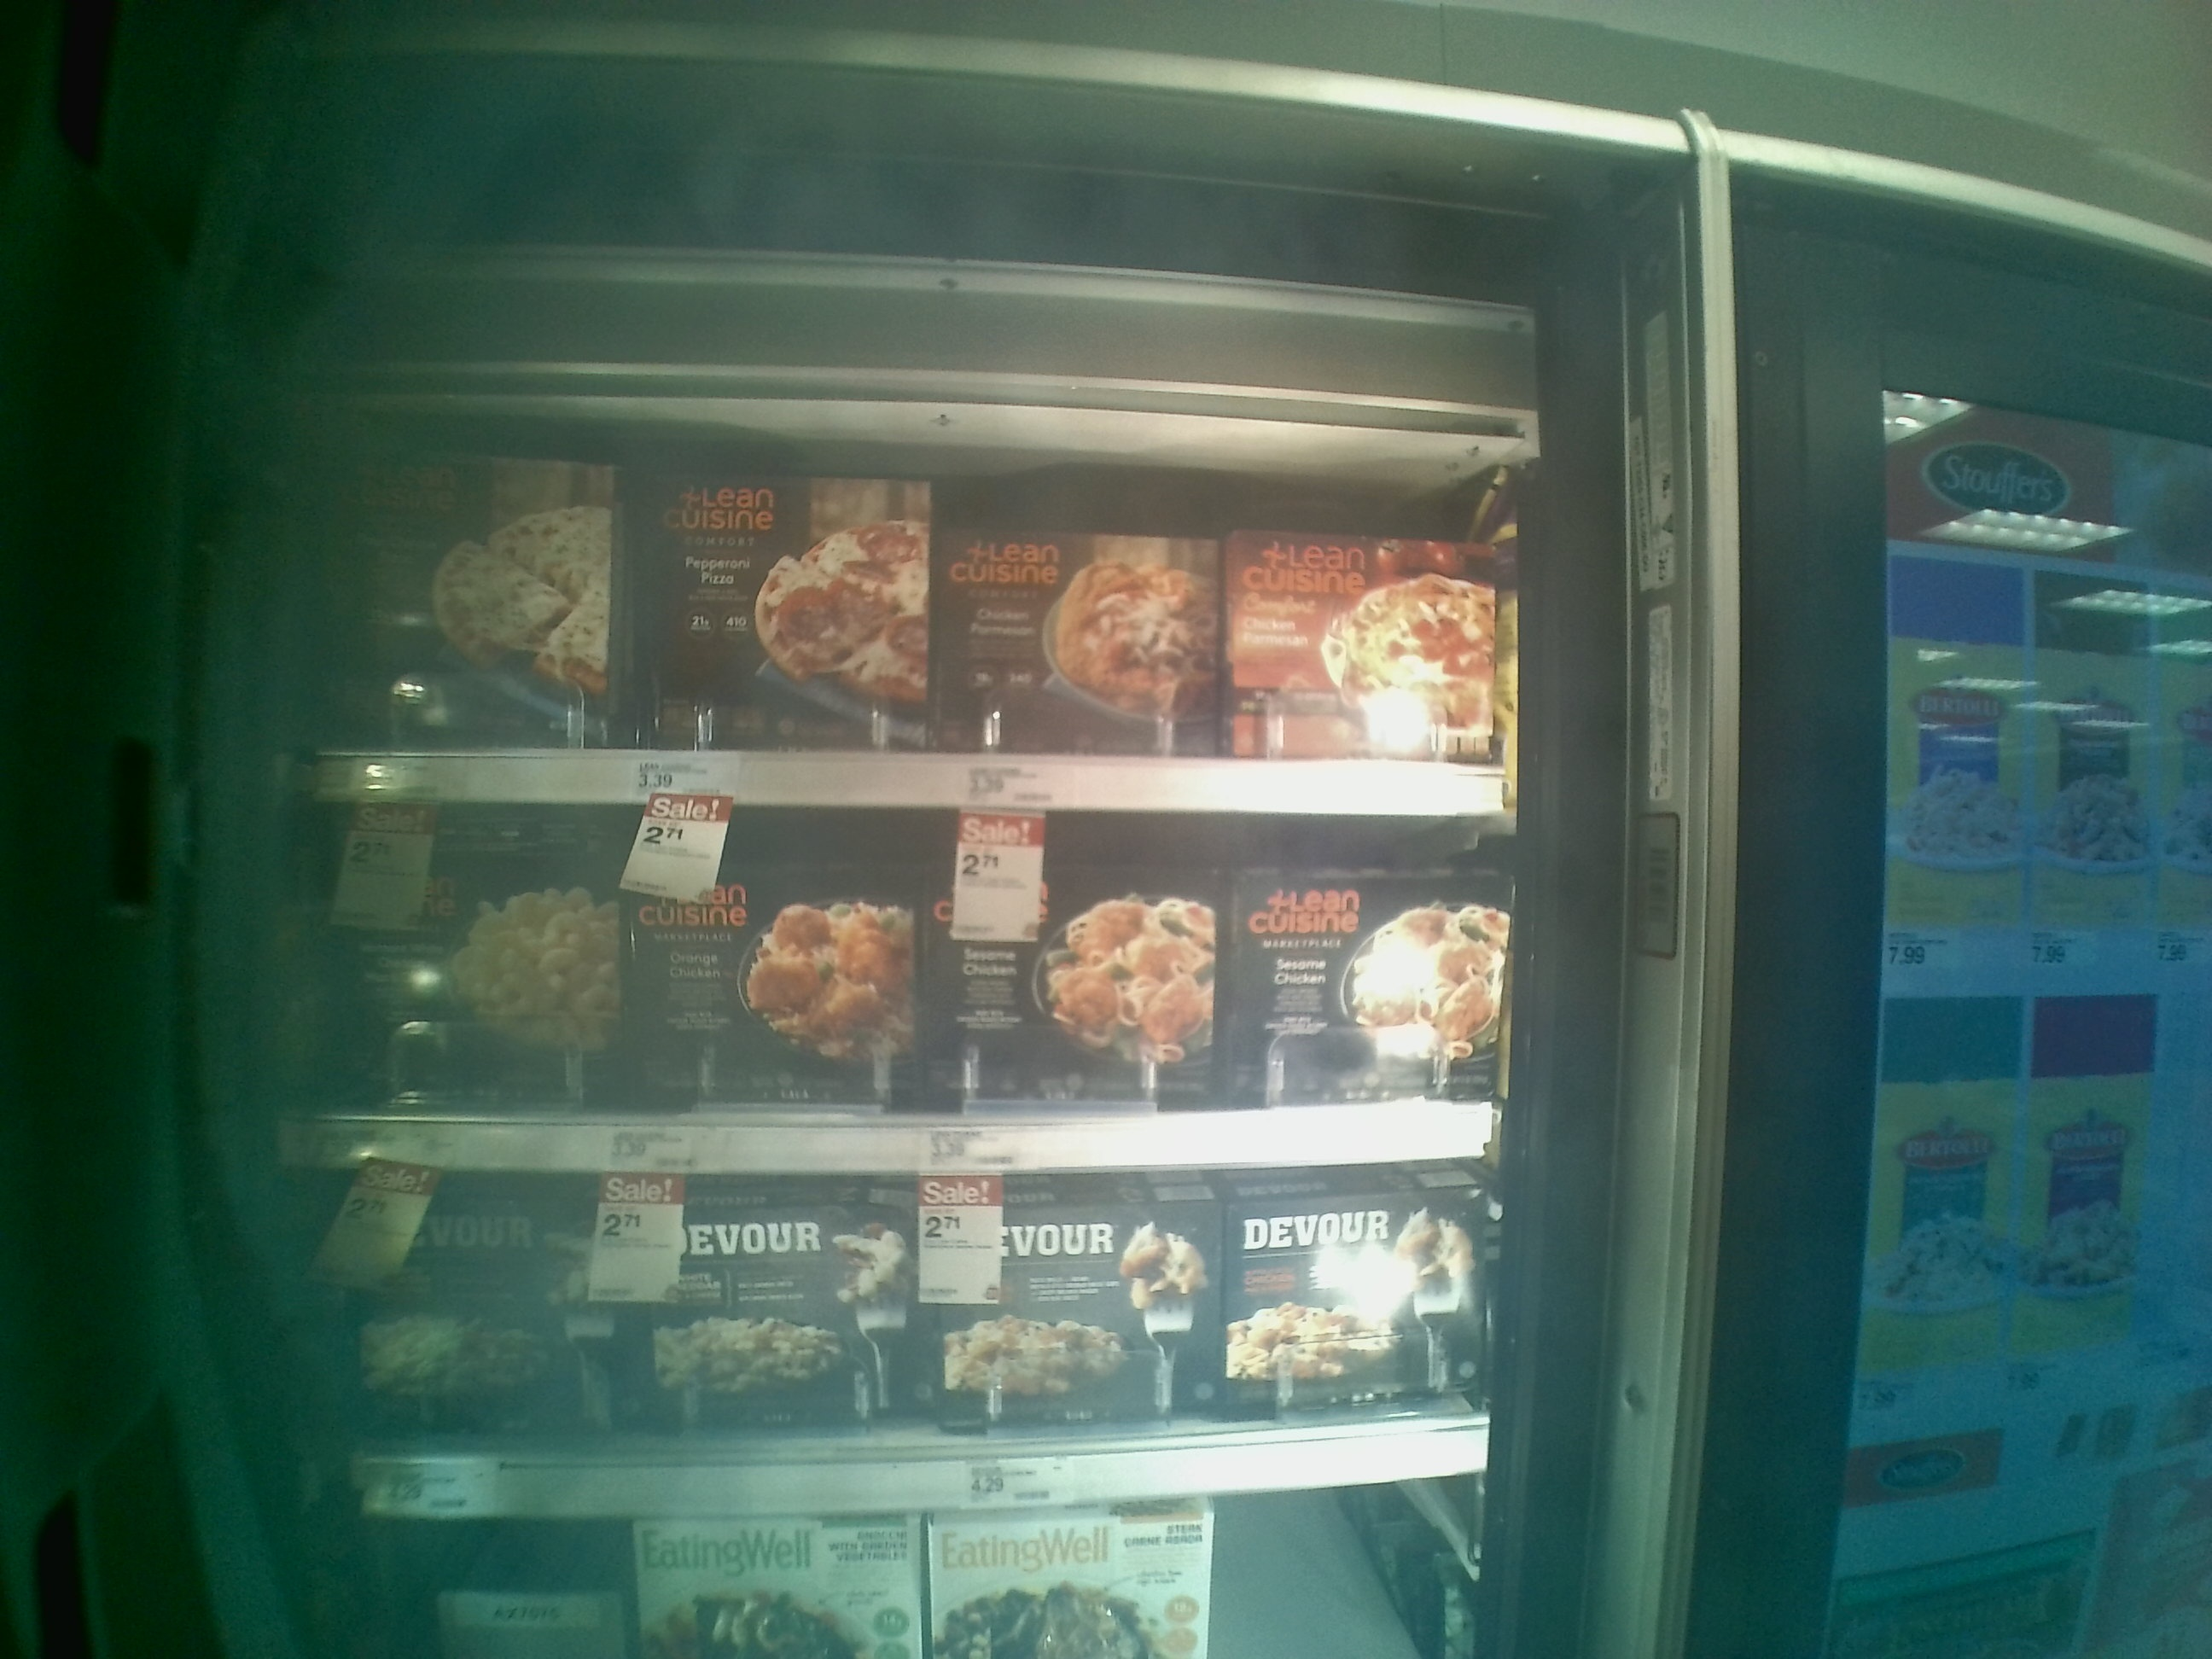shelf: (279, 385, 1505, 823), (296, 798, 1524, 1175), (286, 1166, 1501, 1516)
